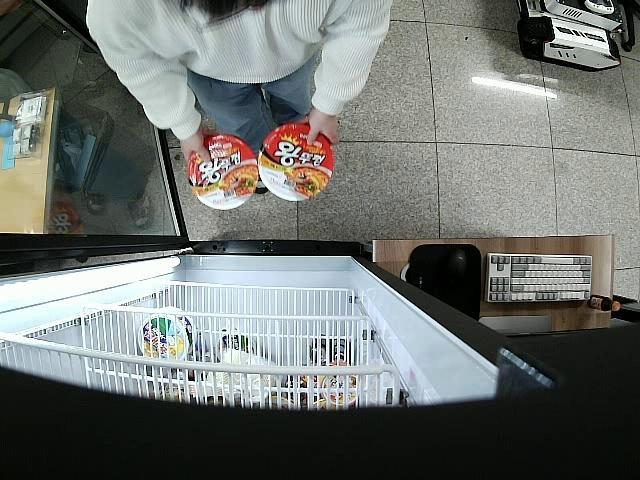10_wangTtukkeong: (260, 122, 333, 203), (187, 134, 260, 211)
